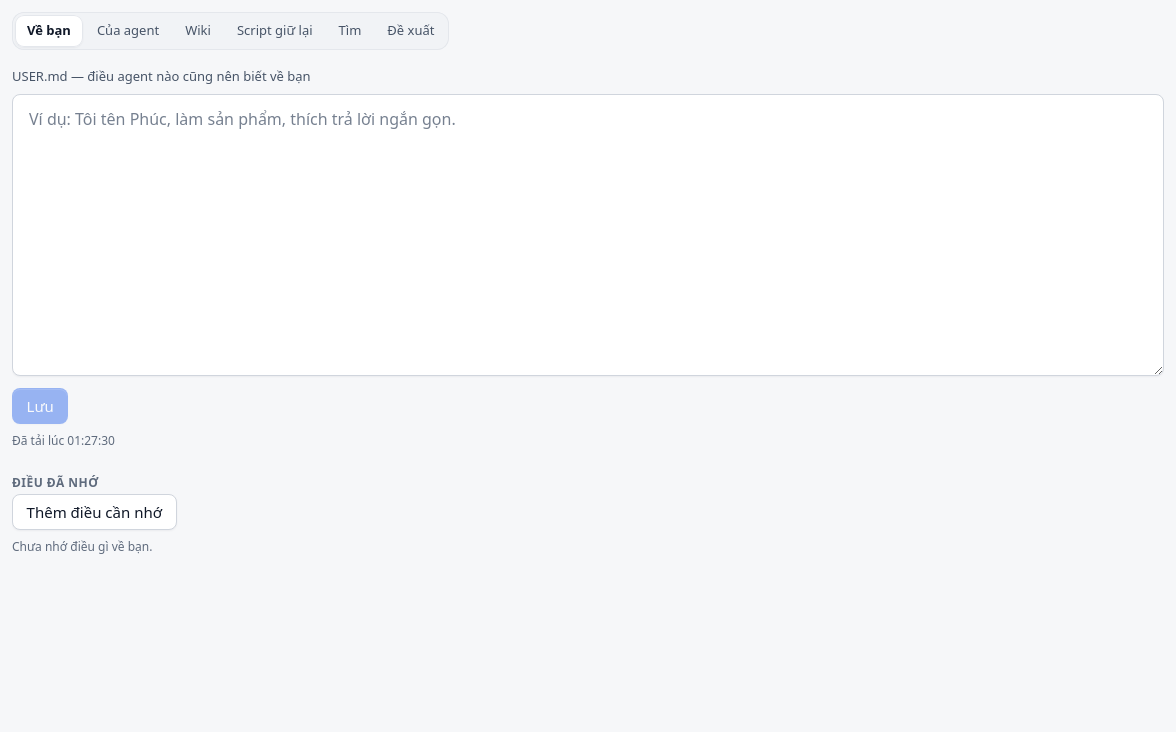
Test: MemoryPanel › labels a search hit by the scope it came from
Click the tab "Tìm". click: (350, 31)
box: [327,15,373,47]
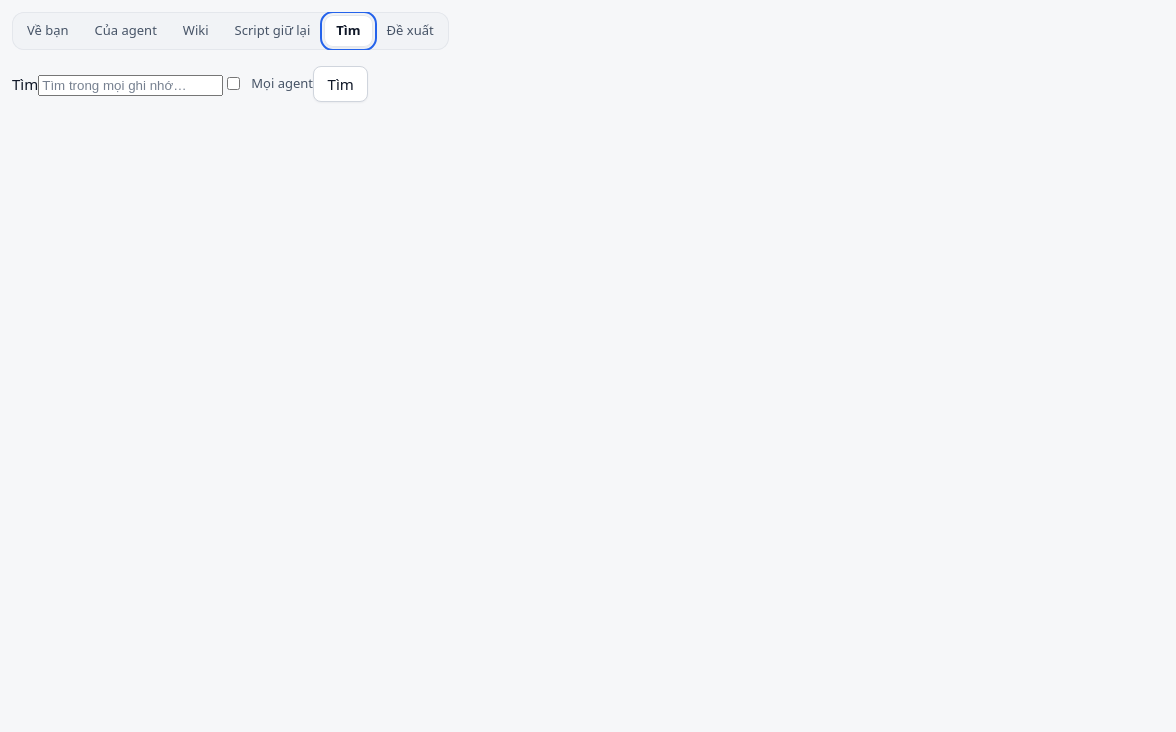
Type "cà phê" into the field labelled "Tìm". click: (131, 86)
box: [38,75,223,96]
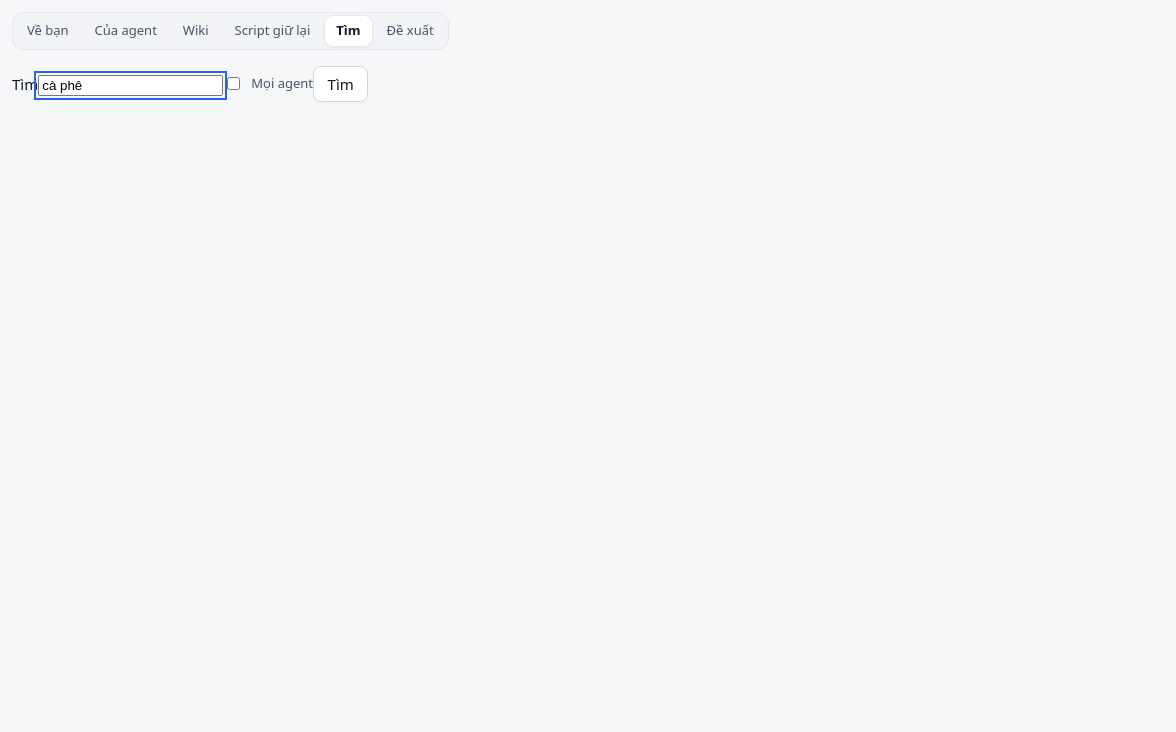
Click the button "Tìm". click: (341, 84)
box: [313,66,368,102]
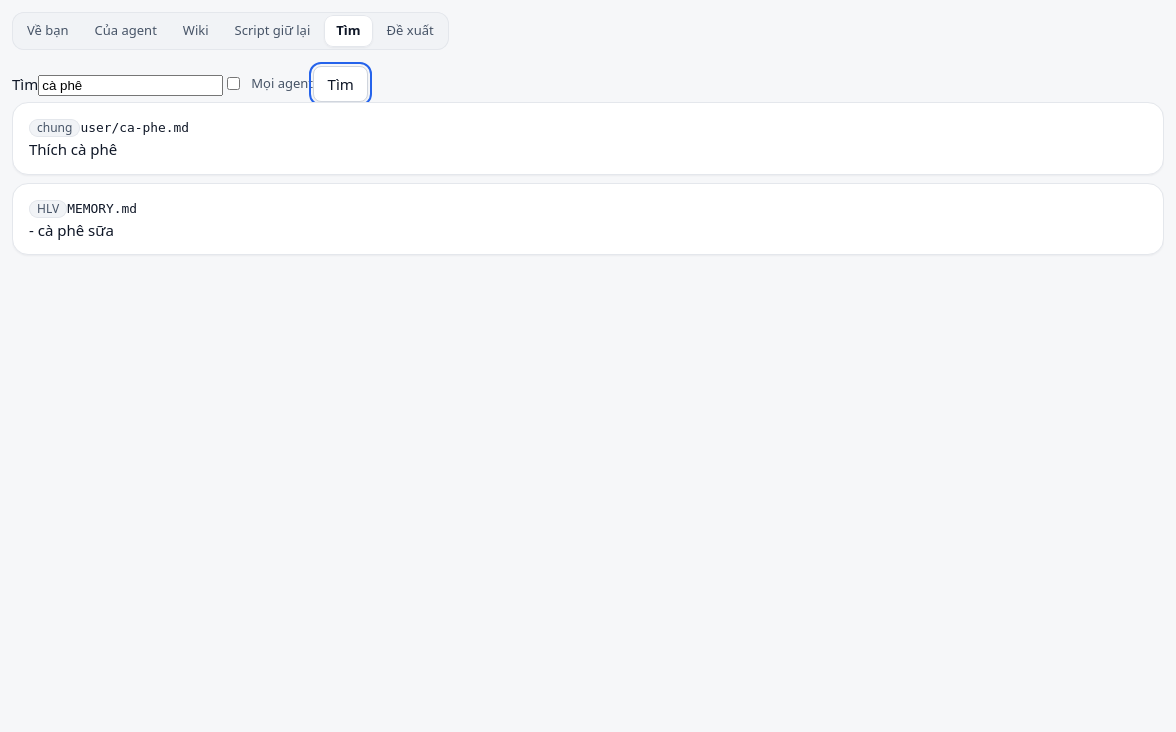
Result: the text "Thích cà phê" is shown at [29,139,117,159]
Result: the text "chung" is shown at [29,119,80,137]
Result: the text "HLV" is shown at [29,200,67,218]
